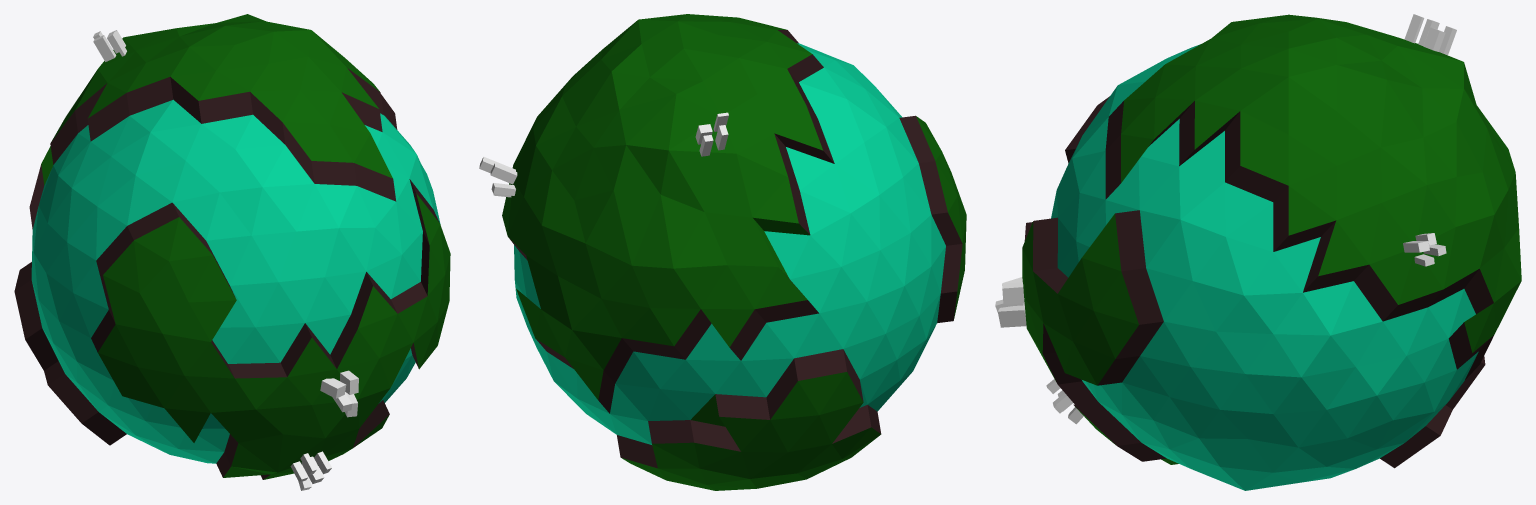
The model's file is terra_prova.fbx.
3 views of the same model, side by side, from view 1: azimuth 30°, elevation 25°; view 2: azimuth 150°, elevation 25°; view 3: azimuth 270°, elevation 25° (orthographic). The views are drawn at different scales.
Parts seen in each view (by area): view 1: GeoSphere001, terra; view 2: terra, GeoSphere001; view 3: GeoSphere001, terra, Box001.
Boxes of the visible parts, box(x1,y1,x2,y2) form: GeoSphere001: box(14, 68, 440, 479); terra: box(51, 14, 450, 479); terra: box(502, 14, 966, 490); GeoSphere001: box(508, 30, 962, 468); GeoSphere001: box(1024, 44, 1493, 490); terra: box(1022, 14, 1521, 444); Box001: box(998, 305, 1026, 327).
Bounding box in the file's own units: 335 × 354 × 384.
